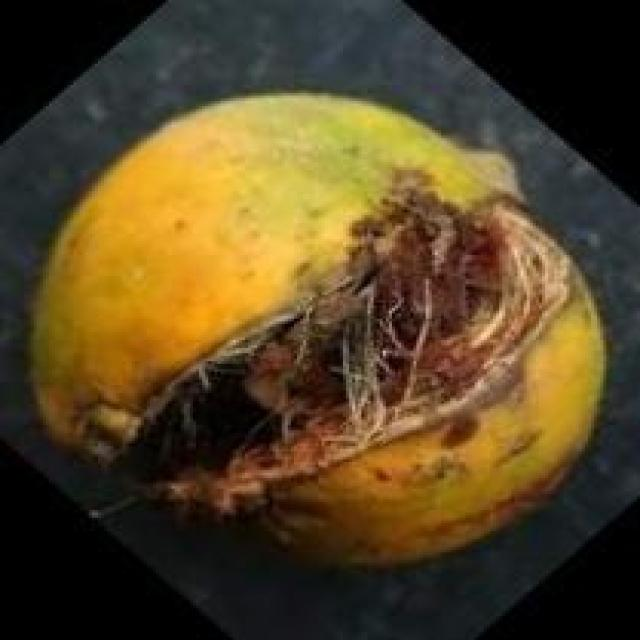damaged: (31, 96, 603, 560)
